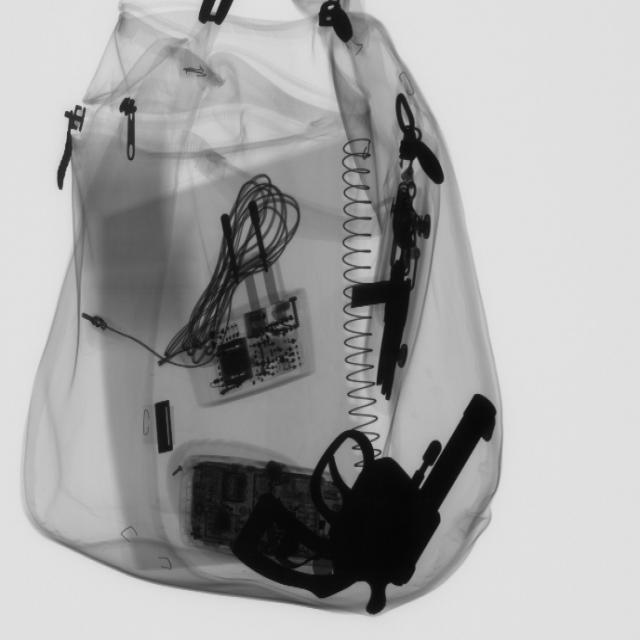GUN: (238, 376, 510, 619)
